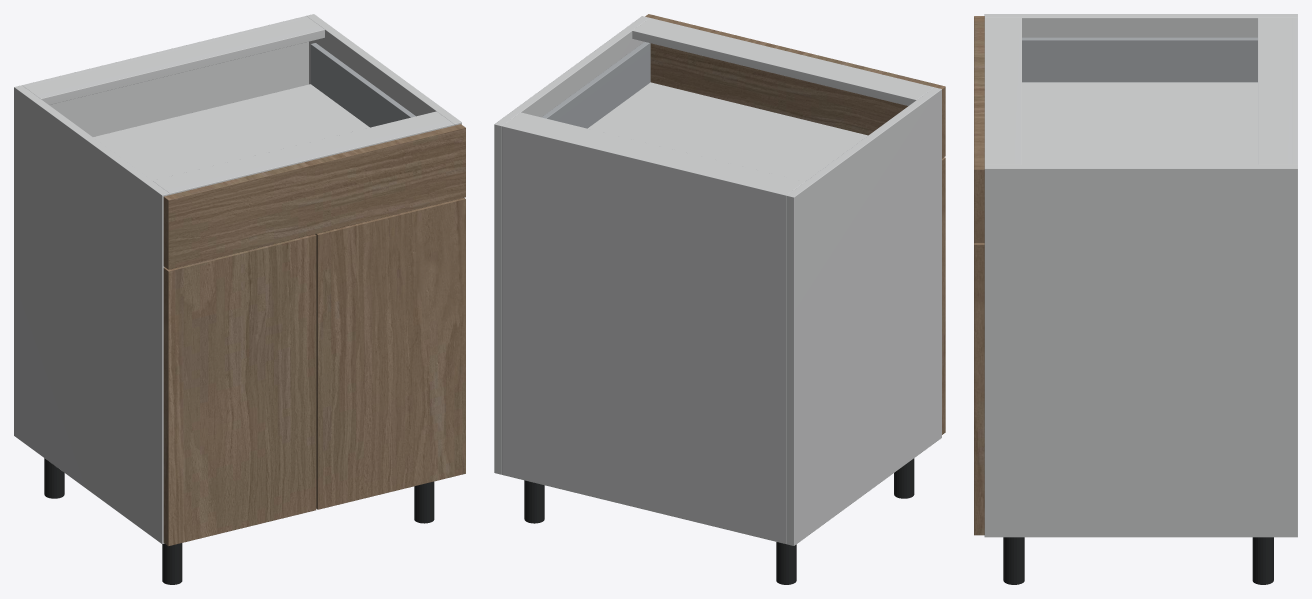
File: oppein-ply-mnw-b27.glb
The picture shows the model from 3 angles, left to right: view 1: azimuth 30°, elevation 25°; view 2: azimuth 150°, elevation 25°; view 3: azimuth 270°, elevation 25°; orthographic projection. The views are drawn at different scales.
Parts seen in each view (by area): view 1: Cabinet side, Door, Door.001, Drawer front, Drawer floor, Cabinet back, Top support rail, Top support rail.001, Drawer side.001, Cabinet side.001, Adjustable foot.001, Adjustable foot.003 (+1 smaller); view 2: Cabinet back, Cabinet side, Drawer floor, Drawer front, Top support rail.001, Cabinet side.001, Top support rail, Drawer side.001, Door, Adjustable foot, Adjustable foot.002, Adjustable foot.001; view 3: Cabinet side.001, Drawer floor, Drawer side, Cabinet side, Top support rail.001, Top support rail, Door.001, Drawer front, Adjustable foot.003, Adjustable foot.002, Cabinet back.
Part boxes in pixels (bbox=[...]): Cabinet side: bbox=[14, 85, 169, 544]; Door: bbox=[163, 234, 316, 546]; Door.001: bbox=[315, 198, 465, 509]; Drawer front: bbox=[163, 124, 465, 269]; Drawer floor: bbox=[93, 84, 369, 180]; Cabinet back: bbox=[22, 16, 308, 136]; Top support rail: bbox=[23, 18, 324, 104]; Top support rail.001: bbox=[153, 111, 454, 194]; Drawer side.001: bbox=[310, 43, 415, 127]; Cabinet side.001: bbox=[306, 14, 461, 125]; Adjustable foot.001: bbox=[162, 543, 182, 584]; Adjustable foot.003: bbox=[414, 481, 434, 523]; Cabinet back: bbox=[502, 124, 788, 543]; Cabinet side: bbox=[786, 87, 941, 545]; Drawer floor: bbox=[588, 82, 867, 181]; Drawer front: bbox=[645, 14, 945, 158]; Top support rail.001: bbox=[632, 18, 933, 105]; Cabinet side.001: bbox=[494, 16, 649, 474]; Top support rail: bbox=[505, 112, 804, 193]; Drawer side.001: bbox=[541, 42, 650, 128]; Door: bbox=[942, 157, 945, 434]; Adjustable foot: bbox=[776, 542, 796, 584]; Adjustable foot.002: bbox=[524, 480, 544, 523]; Adjustable foot.001: bbox=[894, 458, 914, 498]; Cabinet side.001: bbox=[984, 164, 1297, 537]; Drawer floor: bbox=[1022, 82, 1257, 164]; Drawer side: bbox=[1022, 37, 1257, 82]; Cabinet side: bbox=[984, 14, 1297, 37]; Top support rail.001: bbox=[984, 18, 1021, 164]; Top support rail: bbox=[1258, 18, 1291, 164]; Door.001: bbox=[974, 243, 984, 535]; Drawer front: bbox=[974, 16, 984, 242]; Adjustable foot.003: bbox=[1003, 537, 1024, 584]; Adjustable foot.002: bbox=[1252, 537, 1273, 584]; Cabinet back: bbox=[1292, 18, 1297, 164].
Size of the model in its own units: 0.6858 by 0.8763 by 0.6064.
Materials: 4 (1 with a texture image).
